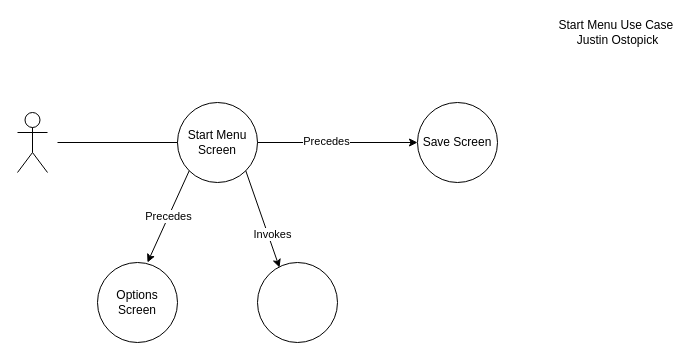
Some shapes in this 700 by 360 pixel diagram are drawn without their labels. Here are the shapes that lost their labels. From the top down, the box of each, then its label:
(16, 112, 48, 172): User
(256, 262, 338, 342): Exit
